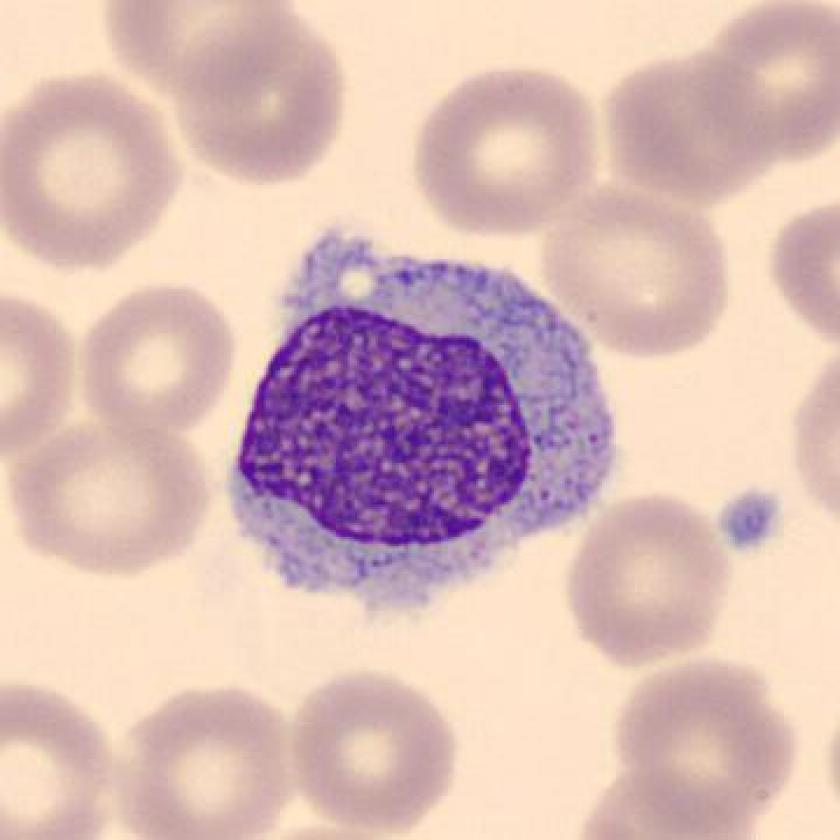monocyte: (209, 216, 640, 633)
